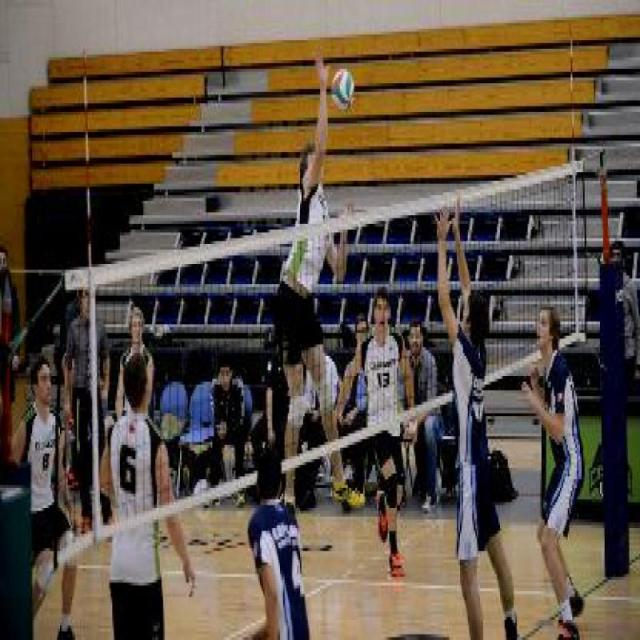volleyball: (329, 69, 354, 112)
